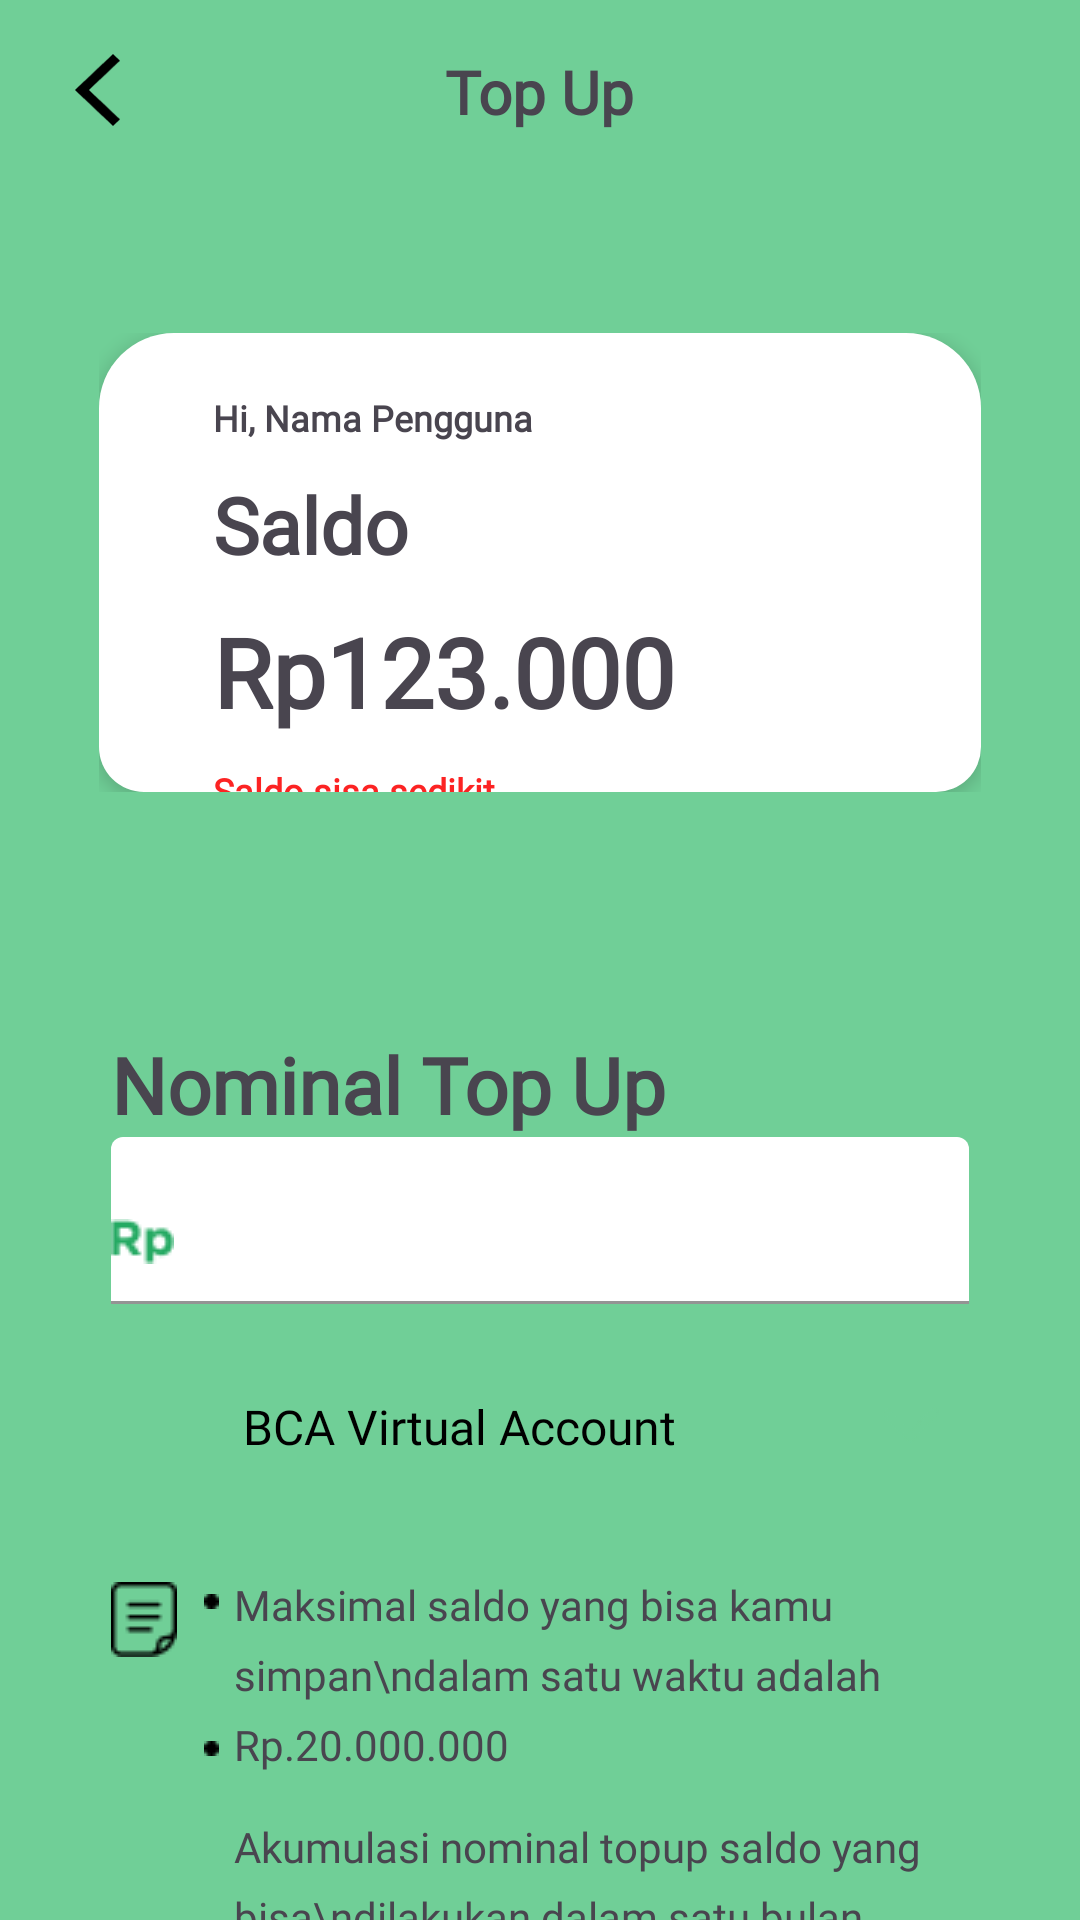

Icons on this 1080w x 1920h Android screen, each with its box as (x1,y1,x2,y2):
iconback: (75,54,120,126)
note: (111,1582,177,1657)
